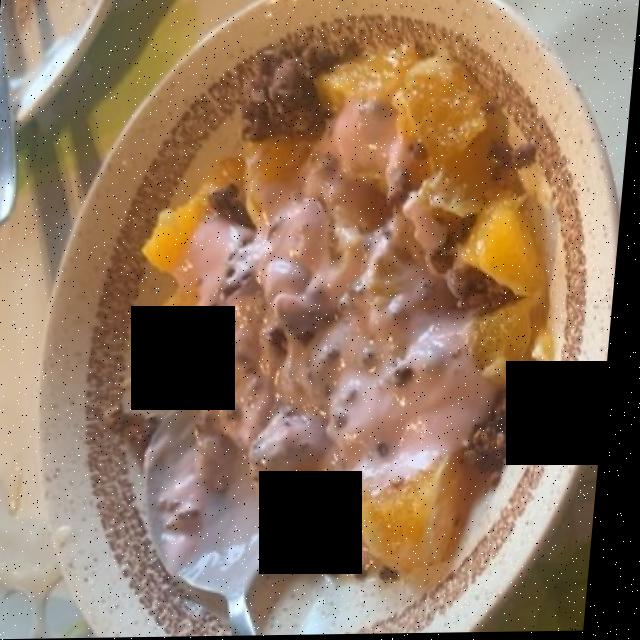birchermuesli-prepared-no-sugar-added: (157, 31, 532, 592)
